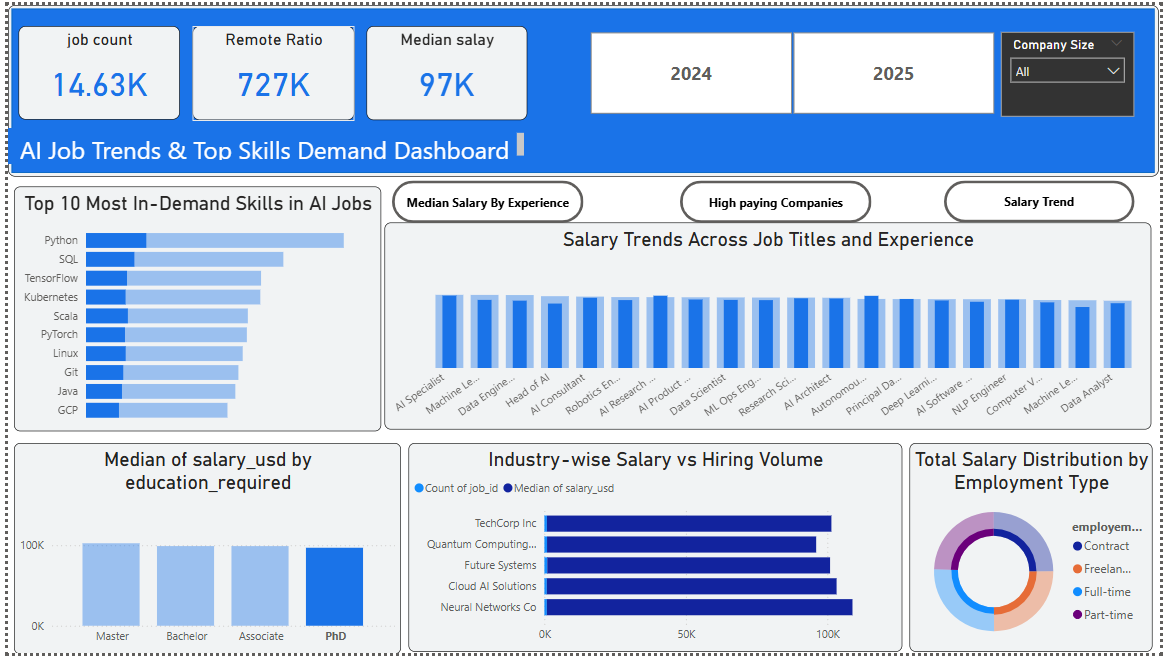

The page's visual inventory and layout, read from the dashboard file:
{"tool":"powerbi","page":{"name":"AI_Jobs","canvas":[1280,720],"ordinal":0},"visuals":[{"type":"shape","box":[0,0,1278.5,190.8],"z":0},{"type":"card","title":"Remote Ratio","fields":{"Values":["Sum(AI_JOB.remote_ratio)"]},"box":[204.7,23.1,180,104.6],"z":1000},{"type":"card","title":"job count","fields":{"Values":["CountNonNull(AI_JOB.job_id)"]},"box":[11.9,23.1,179.5,103.9],"z":2000},{"type":"textbox","box":[0,136,578,40],"z":3000},{"type":"card","title":"Median salay","fields":{"Values":["Median(AI_JOB.salary_usd)"]},"box":[398,23.1,178.5,104.6],"z":4000},{"type":"barChart","title":"Top 10 Most In-Demand Skills in AI Jobs","fields":{"Category":["AI_JOB.Skill"],"Y":["CountNonNull(AI_JOB.Month)"]},"box":[6.2,201.6,407.8,271.9],"z":5000},{"type":"clusteredColumnChart","title":"Salary Trends Across Job Titles and Experience","fields":{"Category":["AI_JOB.job_title"],"Y":["Median(AI_JOB.salary_usd)"]},"box":[418,242,852,230],"z":6000},{"type":"columnChart","fields":{"Y":["Median(AI_JOB.salary_usd)"],"Category":["AI_JOB.education_required"]},"box":[6.2,485.9,429.7,234.4],"z":9000},{"type":"barChart","title":"Industry-wise Salary vs Hiring Volume","fields":{"Y":["CountNonNull(AI_JOB.job_id)","Median(AI_JOB.salary_usd)"],"Category":["AI_JOB.company_name"]},"box":[445,486.7,548.3,231.7],"z":10000},{"type":"actionButton","box":[427.1,195.7,212.9,47.1],"z":11000},{"type":"actionButton","box":[747.1,195.7,212.9,47.1],"z":12000},{"type":"actionButton","box":[1040,195,211.7,46.7],"z":13000},{"type":"donutChart","title":"Total Salary Distribution by Employment Type","fields":{"Category":["AI_JOB.employement_type"],"Y":["Sum(AI_JOB.salary_usd)"]},"box":[1002,486,270,232],"z":14000},{"type":"slicer","fields":{"Values":["AI_JOB.posting_date.Variation.Date Hierarchy.Year"]},"box":[622,24,498,104],"z":15000},{"type":"slicer","fields":{"Values":["AI_JOB.company_size"]},"box":[1104,30,148,94],"z":16000}]}

Visuals, with their boxes in screenshot pixels (x1, y1, x2, y2), scaled from the page's 1280x720 canvas onto the 1170x662 screenshot:
shape: locate(0, 0, 1169, 175)
"Remote Ratio" card: locate(187, 21, 352, 117)
"job count" card: locate(11, 21, 175, 117)
textbox: locate(0, 125, 528, 162)
"Median salay" card: locate(364, 21, 527, 117)
"Top 10 Most In-Demand Skills in AI Jobs" barChart: locate(6, 185, 378, 435)
"Salary Trends Across Job Titles and Experience" clusteredColumnChart: locate(382, 223, 1161, 434)
columnChart - Median(AI_JOB.salary_usd) x AI_JOB.education_required: locate(6, 447, 398, 661)
"Industry-wise Salary vs Hiring Volume" barChart: locate(407, 447, 908, 661)
actionButton: locate(390, 180, 585, 223)
actionButton: locate(683, 180, 878, 223)
actionButton: locate(951, 179, 1144, 222)
"Total Salary Distribution by Employment Type" donutChart: locate(916, 447, 1163, 660)
slicer - AI_JOB.posting_date.Variation.Date Hierarchy.Year: locate(569, 22, 1024, 118)
slicer - AI_JOB.company_size: locate(1009, 28, 1144, 114)
